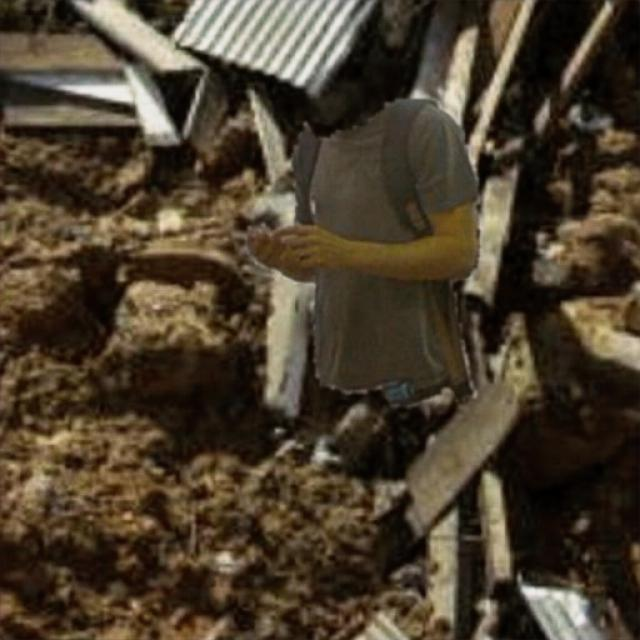Person in Rubble: (248, 99, 480, 408)
